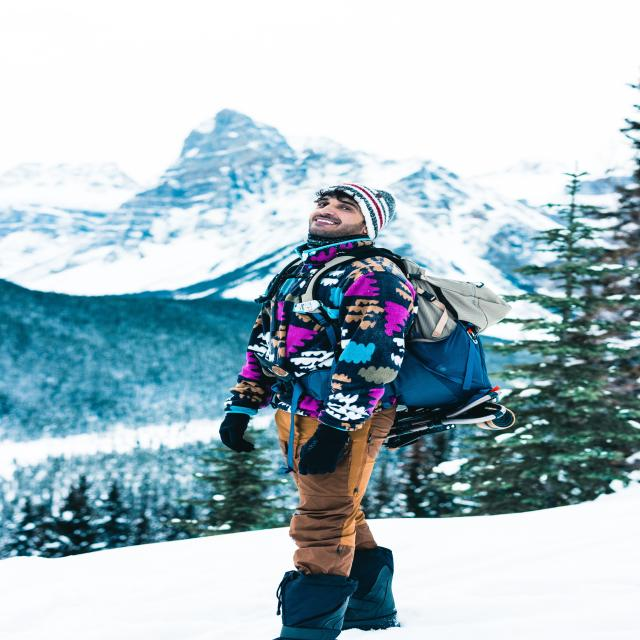backpack: (314, 250, 510, 428)
